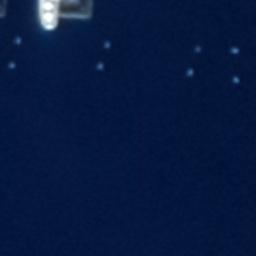square_cover: (56, 1, 96, 25)
